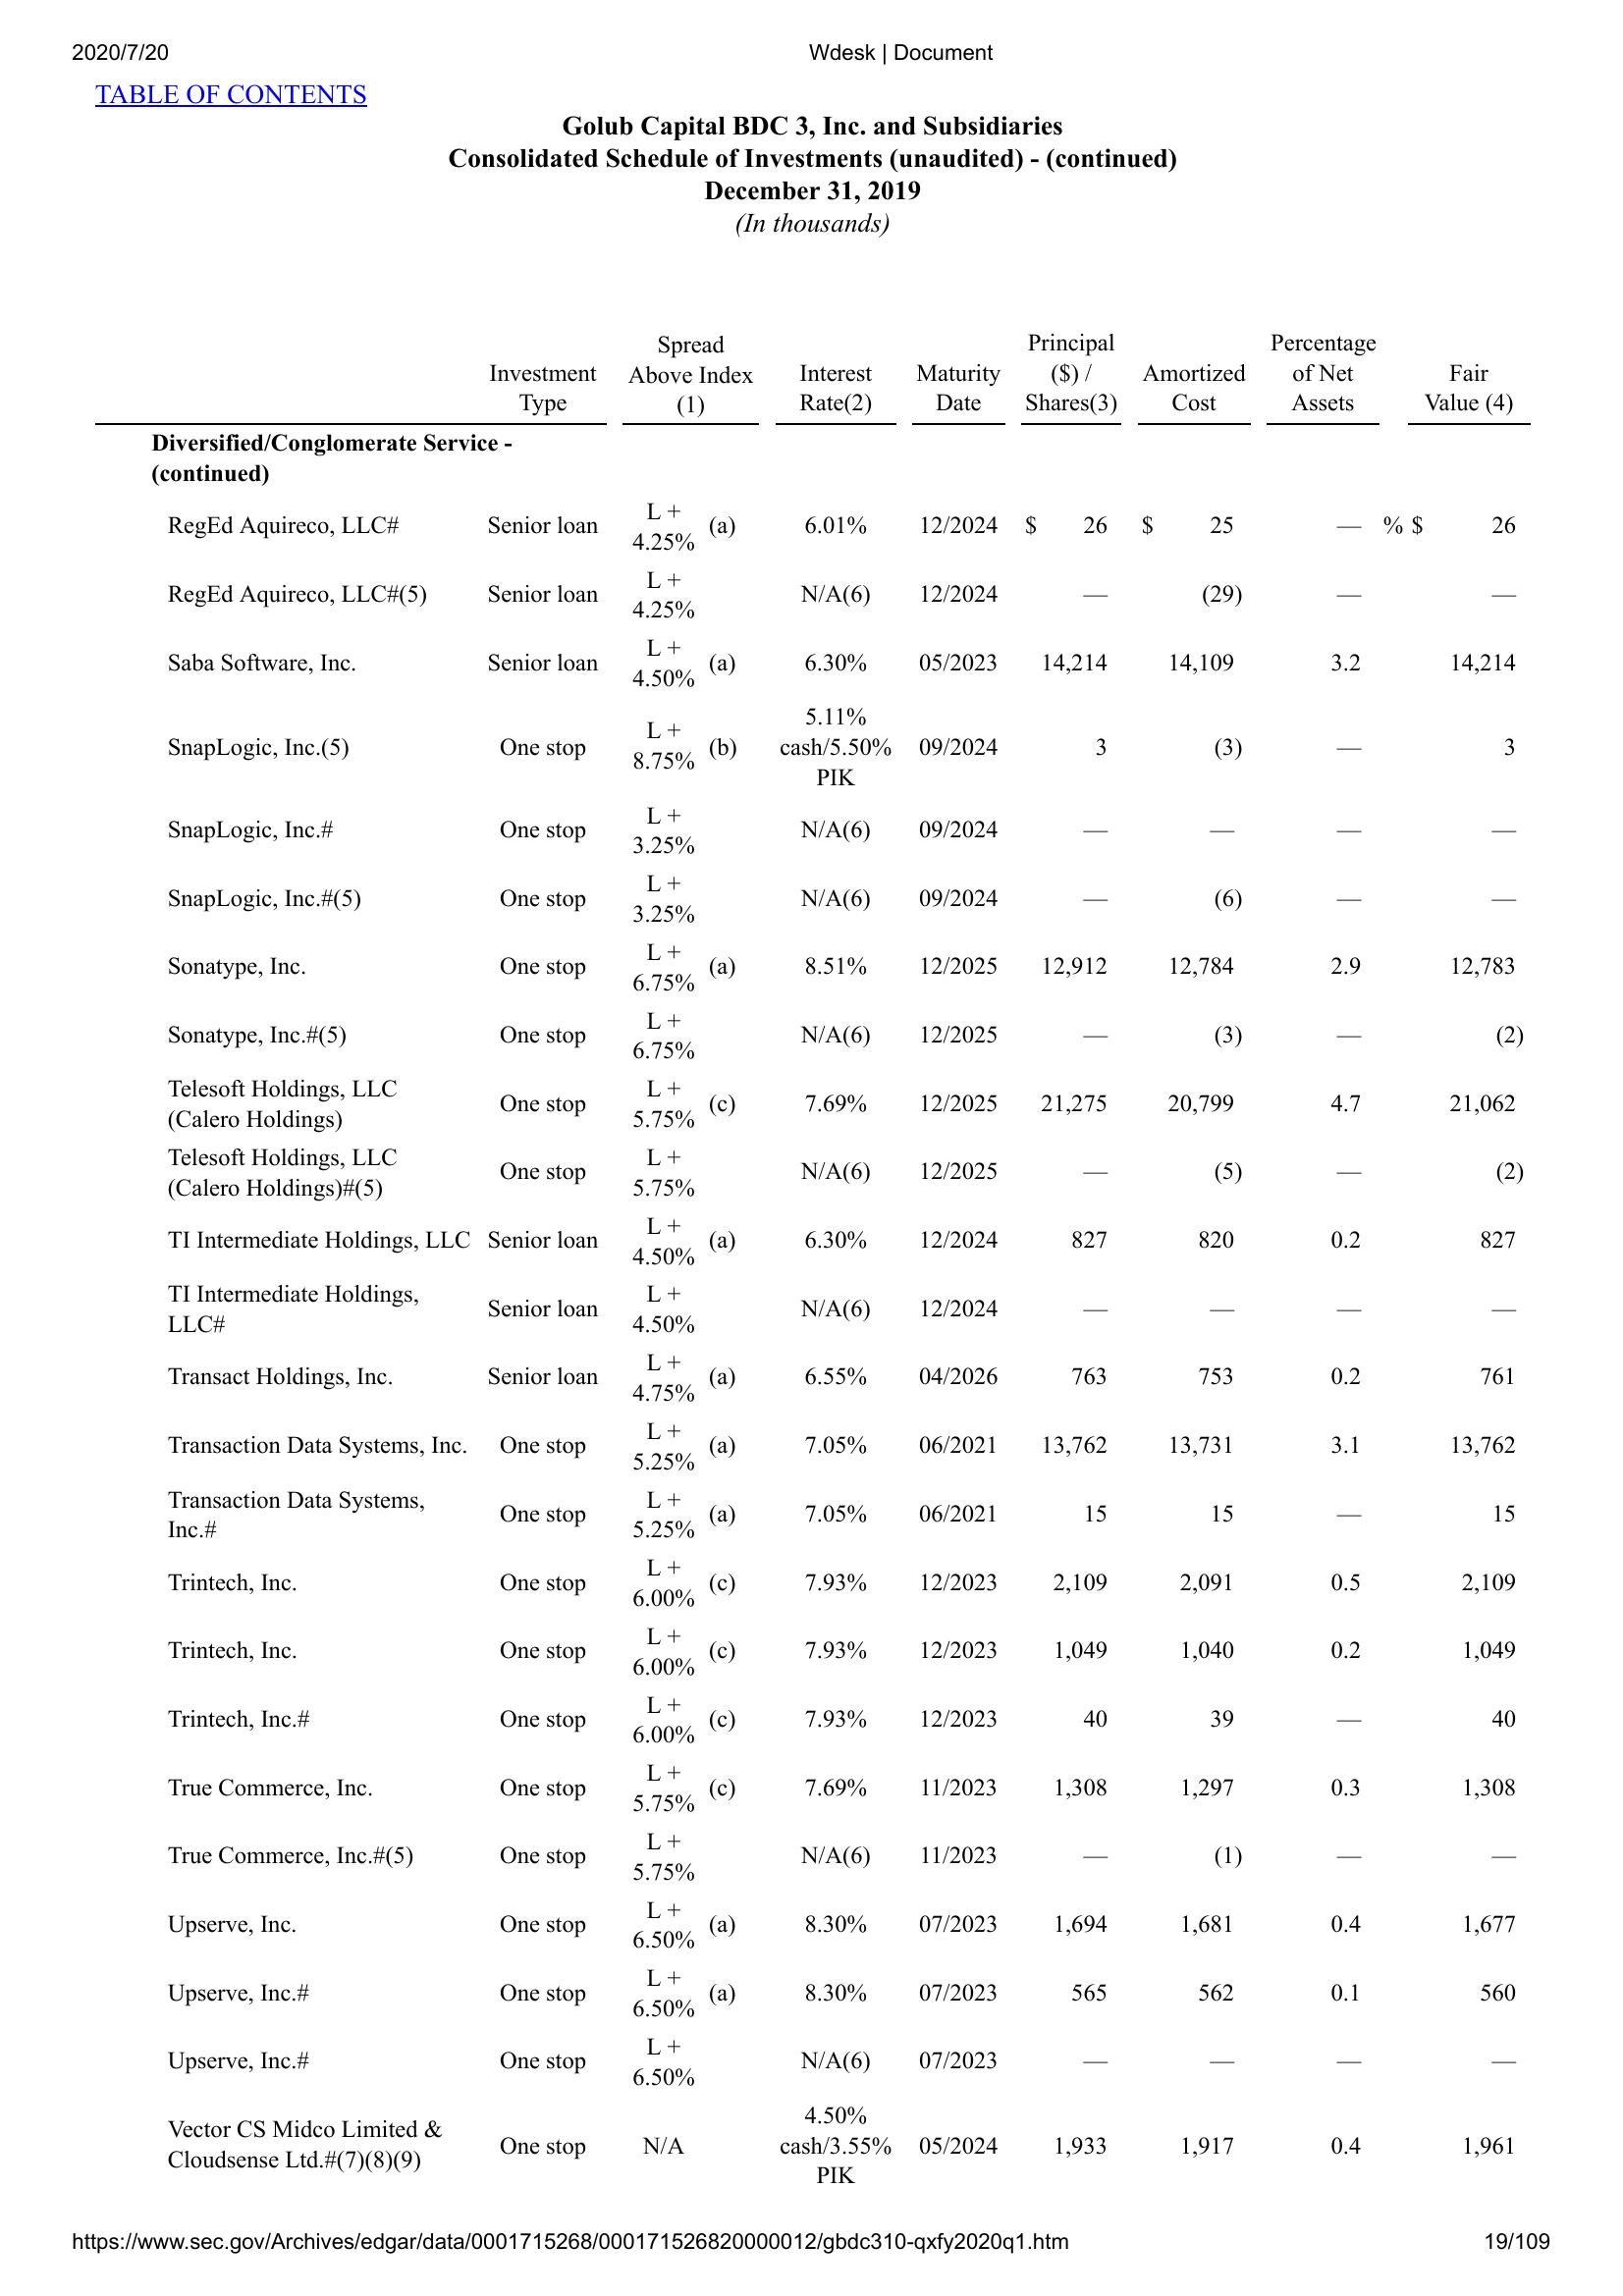table: (95, 309, 1537, 2184)
